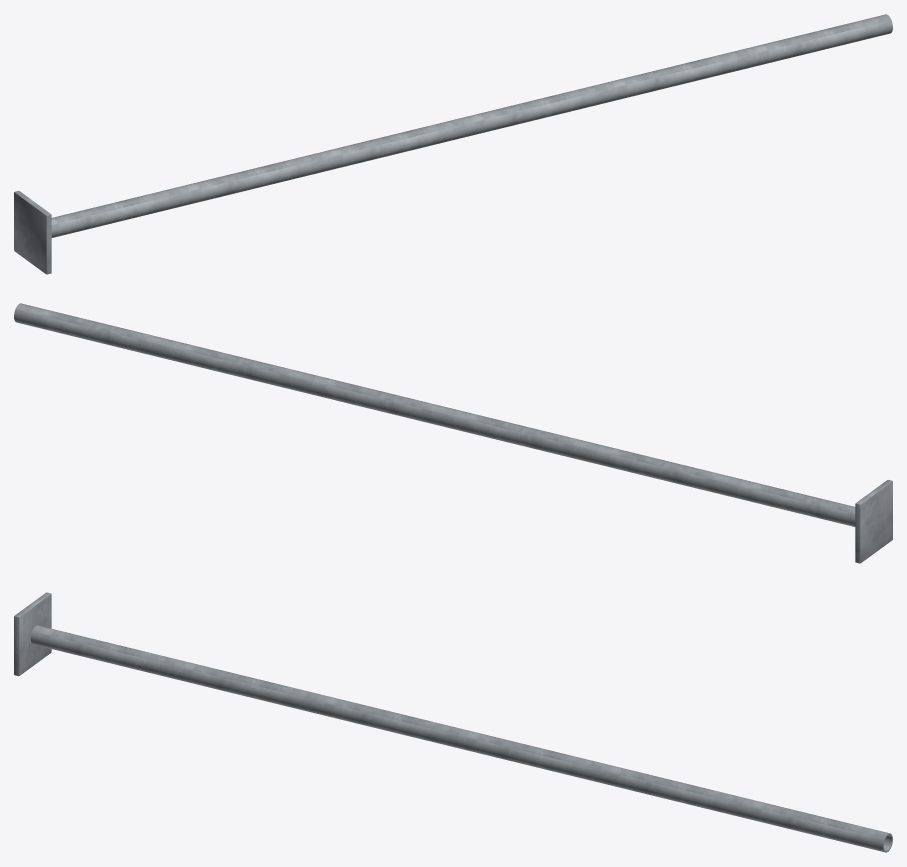
File: ELE-SPD-005_lod1.glb
The picture shows the model from 3 angles, top to bottom: view 1: azimuth 30°, elevation 25°; view 2: azimuth 150°, elevation 25°; view 3: azimuth 330°, elevation 25°; orthographic projection.
Parts seen in each view (by area): view 1: ELE-SPD-005_mastro, ELE-SPD-005_flange; view 2: ELE-SPD-005_mastro, ELE-SPD-005_flange; view 3: ELE-SPD-005_mastro, ELE-SPD-005_flange.
Boxes of the visible parts, x1,y1,x2,y2 form: ELE-SPD-005_mastro: (51, 14, 892, 237); ELE-SPD-005_flange: (14, 191, 51, 274); ELE-SPD-005_mastro: (14, 303, 855, 526); ELE-SPD-005_flange: (855, 480, 892, 563); ELE-SPD-005_mastro: (30, 625, 892, 852); ELE-SPD-005_flange: (14, 592, 51, 676).
Size of the model in its own units: 3.02 by 0.2 by 0.2.
1 material, 1 textured.
